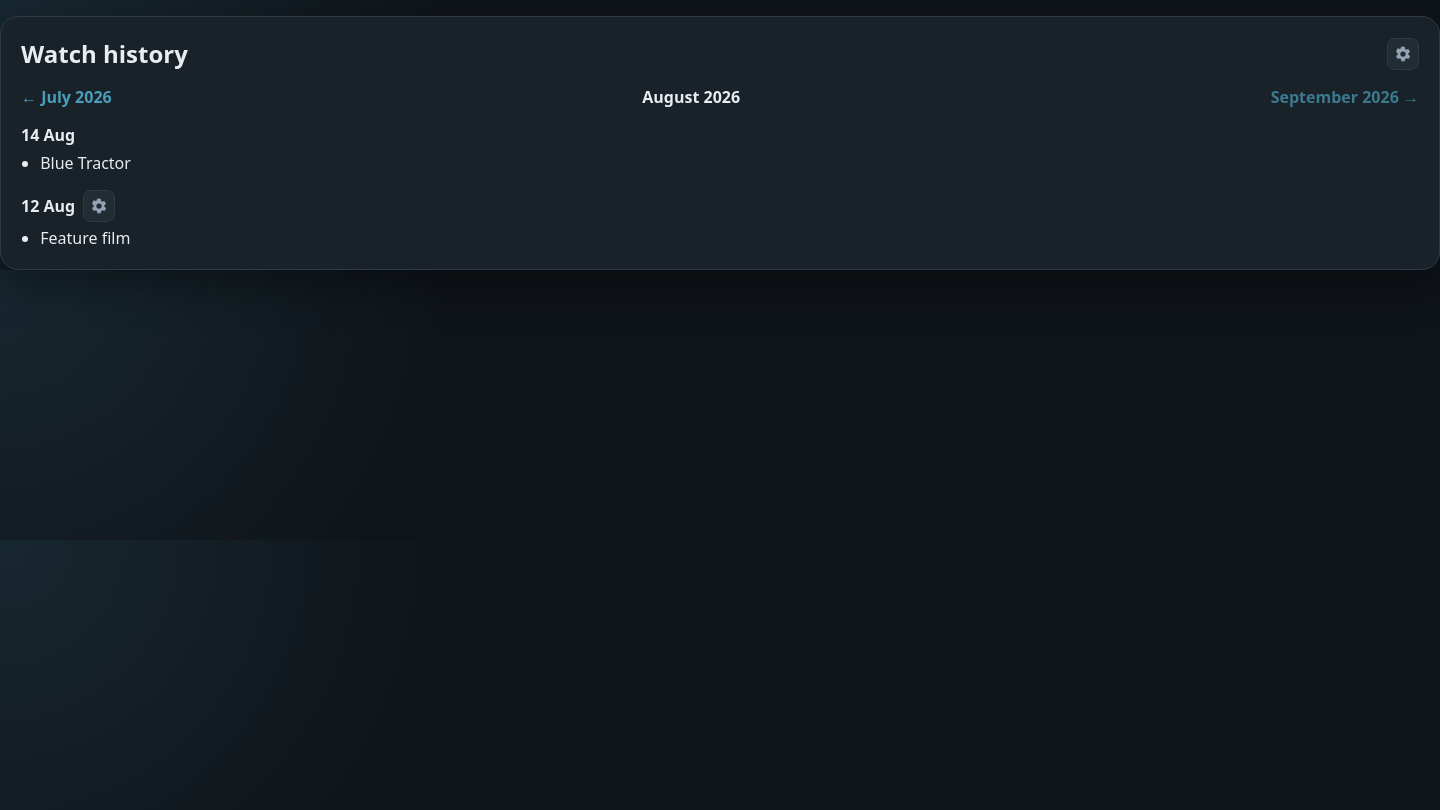
WatchArchiveSection › opens yesterday from the header picker and ignores today
Expected: the list item "Feature film" is shown, x1=40 y1=227 x2=130 y2=249
Click the button named "Correct a day".
click(1403, 54)  # box x1=1387 y1=38 x2=1419 y2=70
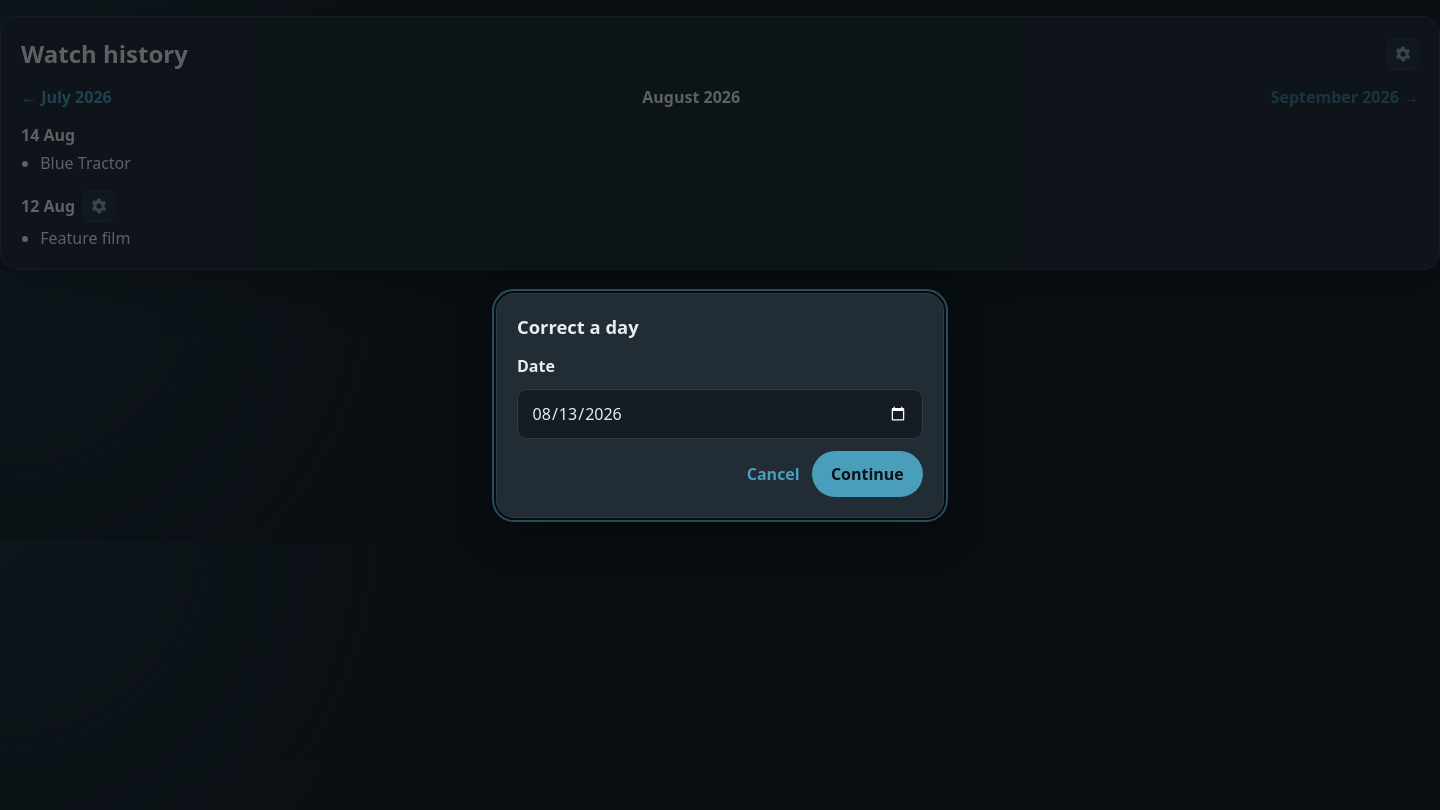
Now the dialog "Correct a day" is shown, box x1=496 y1=292 x2=944 y2=518
Now the date field labelled "Date" holds "2026-08-13", box x1=517 y1=388 x2=923 y2=438
Click the button "Continue".
click(867, 474)  # box x1=812 y1=450 x2=923 y2=496
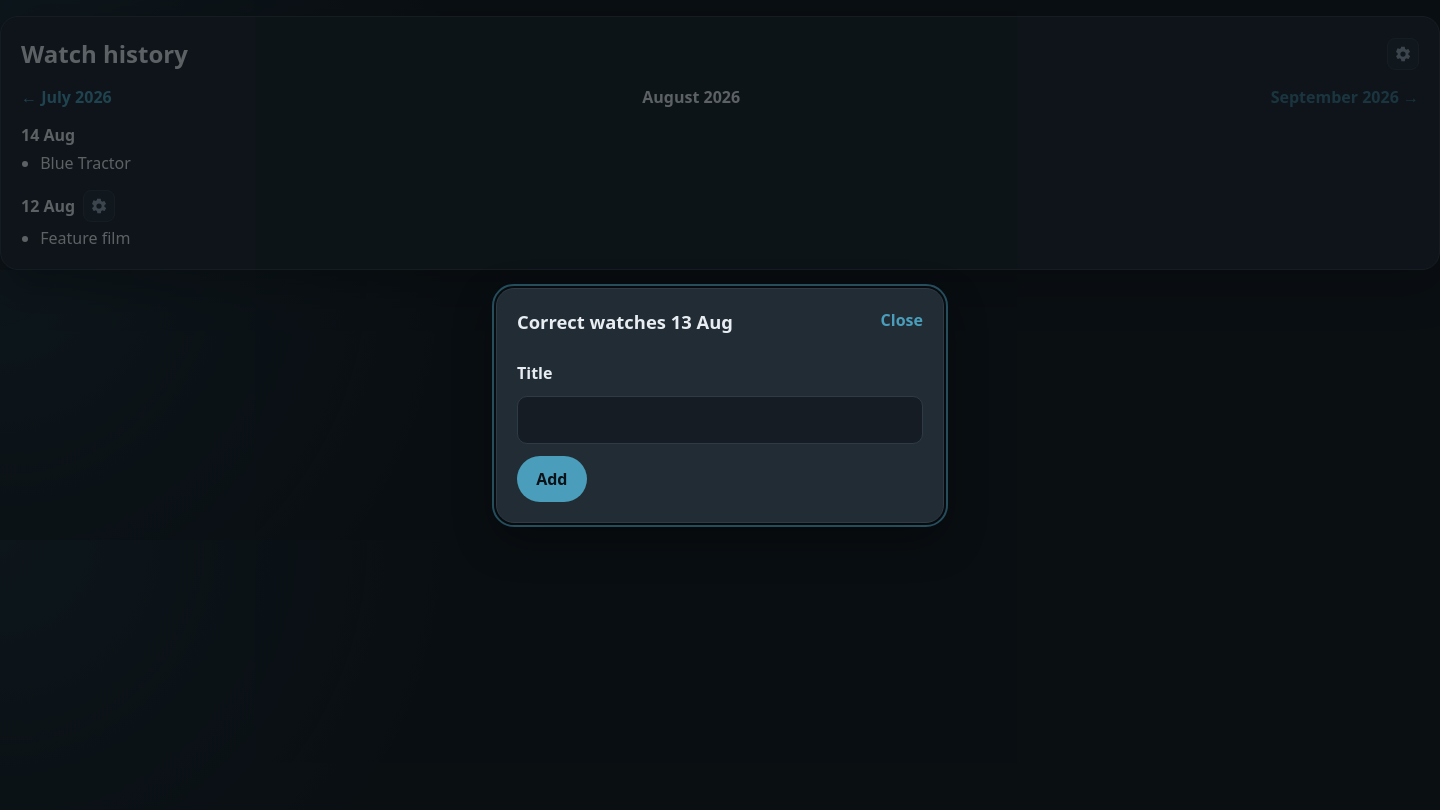
Now the heading "Correct watches 13 Aug" is shown, box x1=517 y1=308 x2=733 y2=334
Press Escape
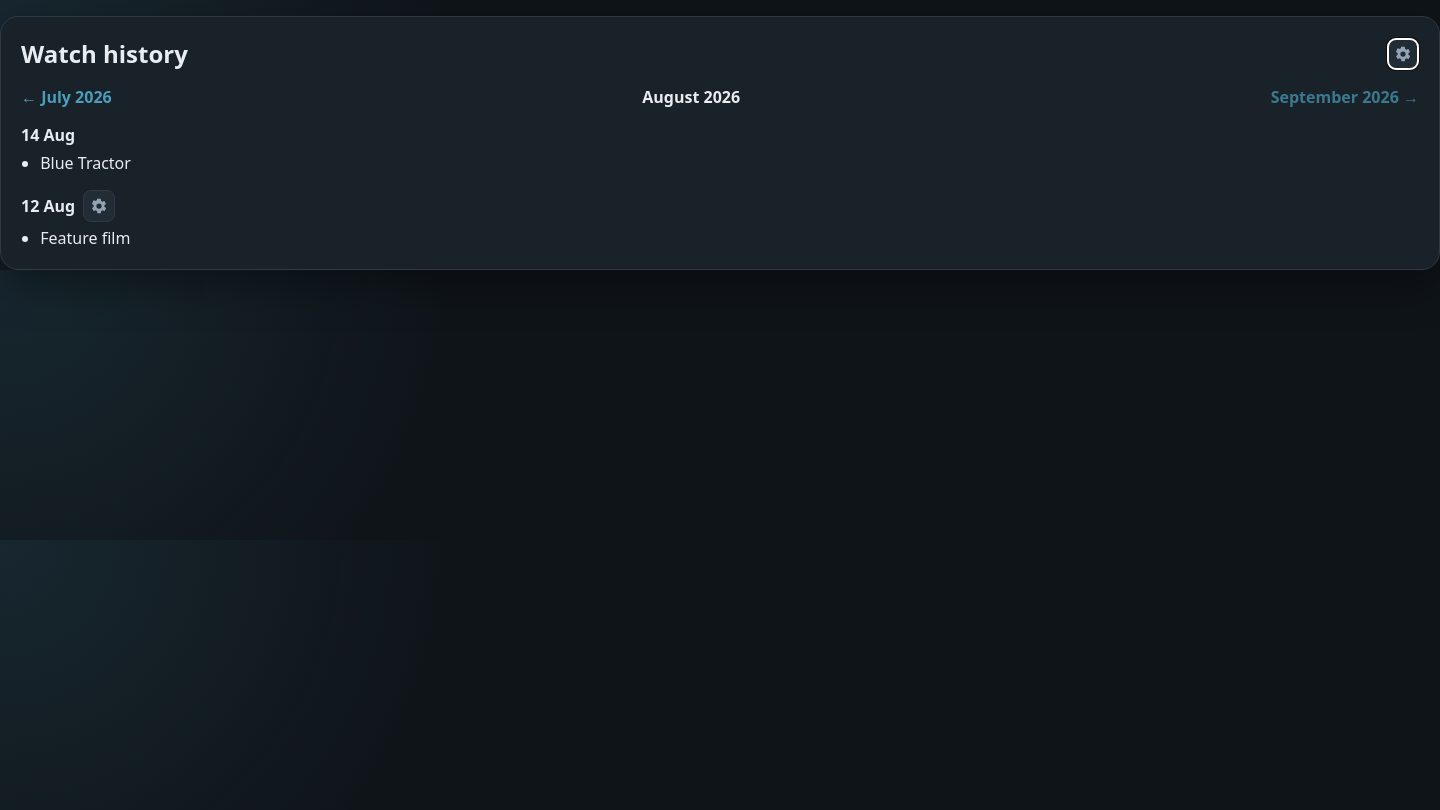
Now the heading "Correct watches 13 Aug" is gone
Click the button named "Correct a day".
click(1403, 54)  # box x1=1387 y1=38 x2=1419 y2=70
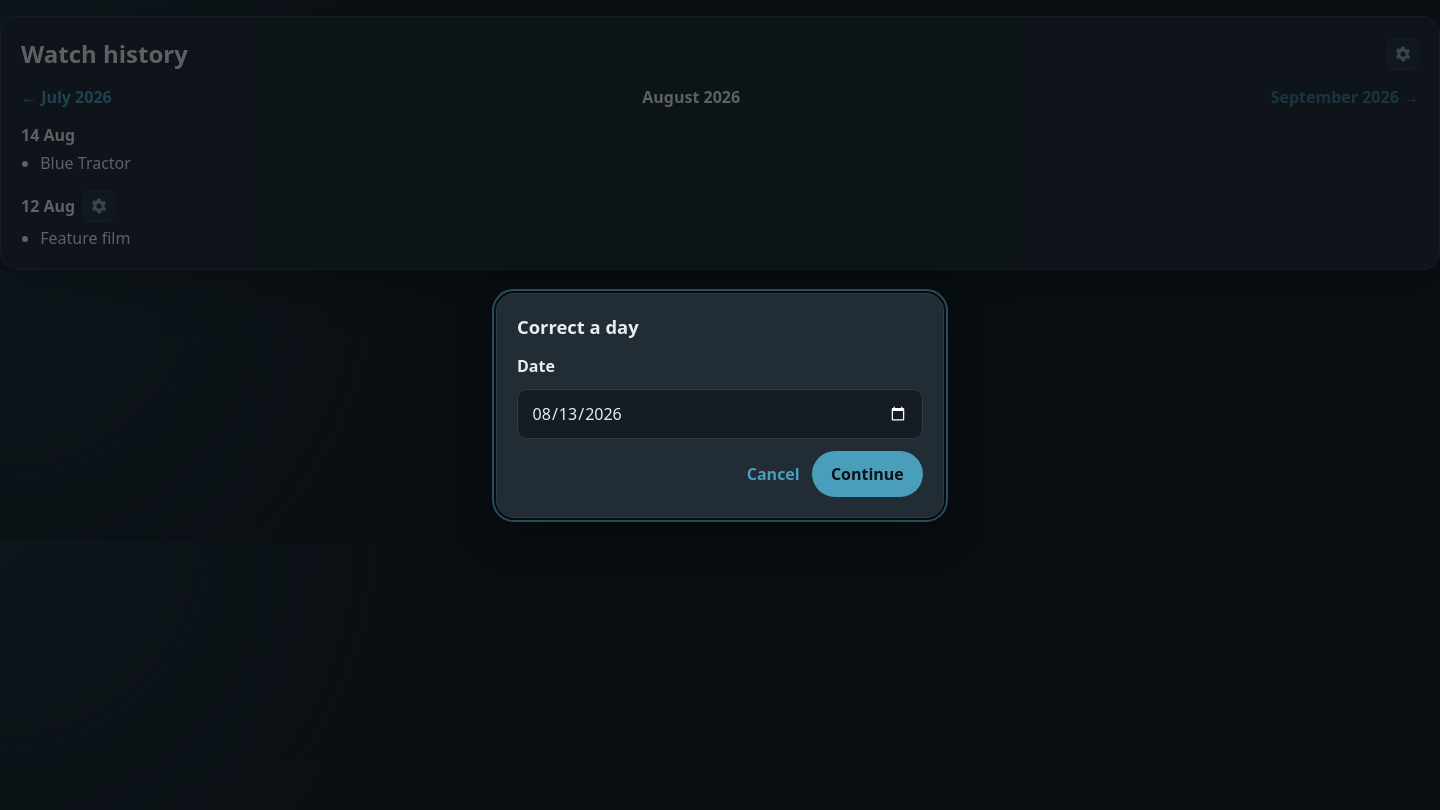
Type "2026-08-14" into the date field labelled "Date".
click(720, 414); type("2026-08-14")  # box x1=517 y1=388 x2=923 y2=438
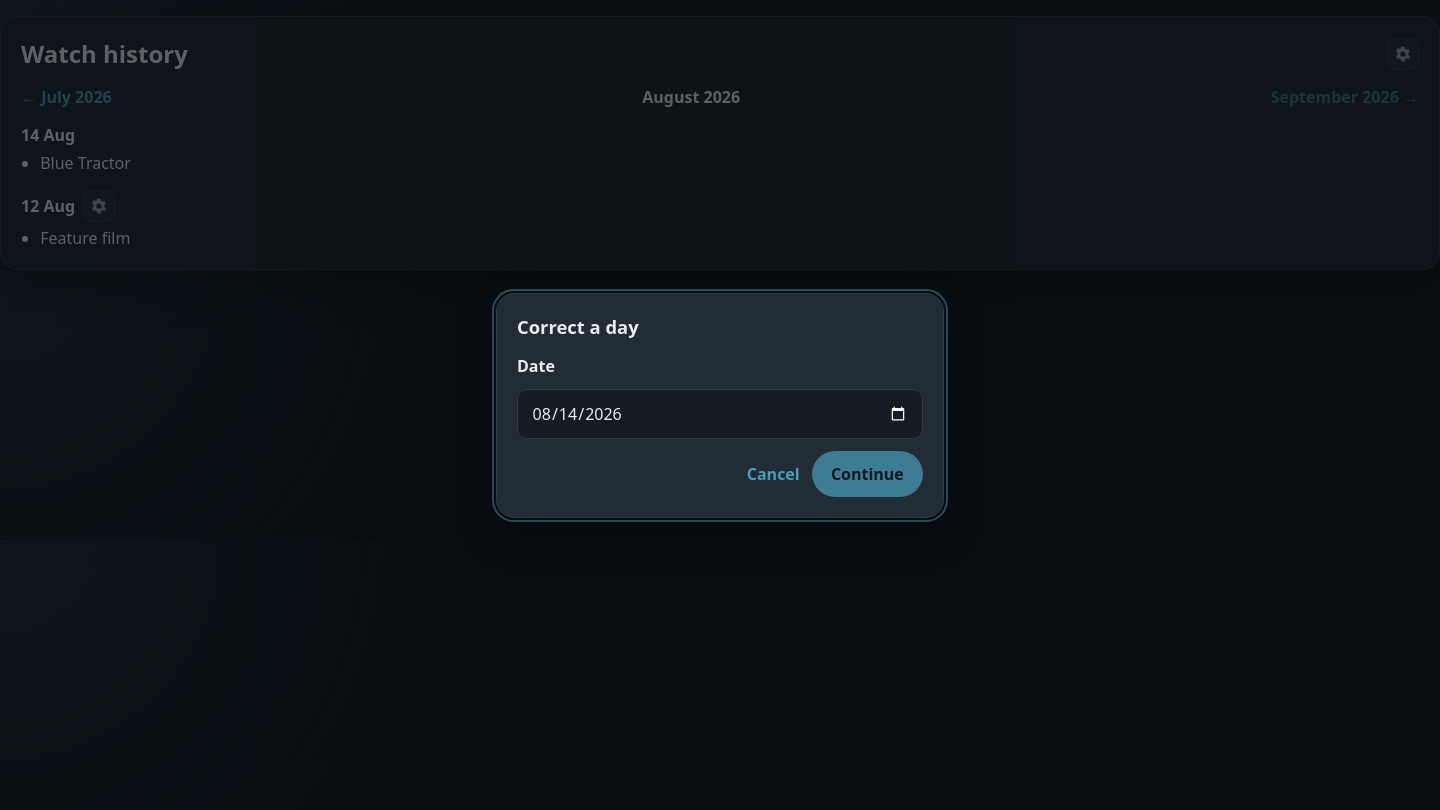
Now the button "Continue" is disabled, box x1=812 y1=450 x2=923 y2=496
